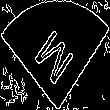M_SW: (31, 21, 79, 89)
